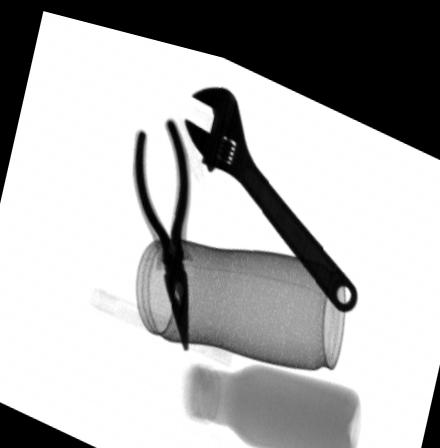Pliers: (132, 105, 192, 340)
Wrench: (183, 74, 359, 296)
